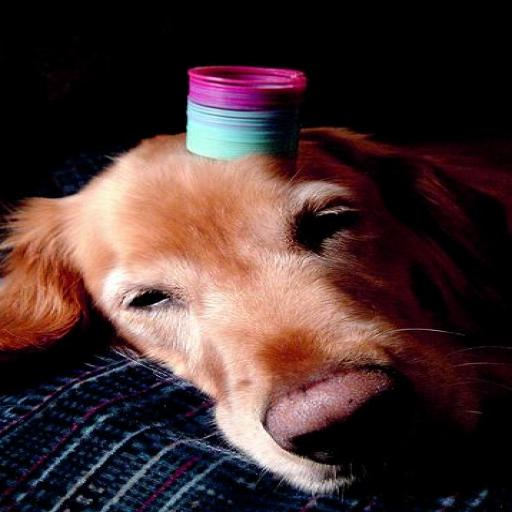dog_face: (19, 134, 459, 475)
